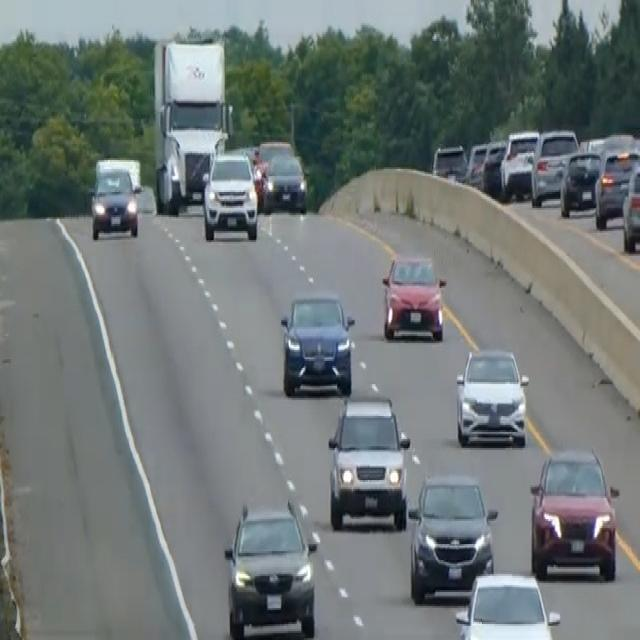car: (222, 496, 318, 638), (528, 444, 619, 582), (407, 471, 497, 603), (279, 290, 355, 396), (454, 345, 529, 448), (454, 569, 561, 638), (380, 249, 446, 341), (201, 149, 258, 242), (89, 156, 140, 240), (594, 140, 639, 228), (530, 126, 579, 206), (559, 147, 601, 217), (499, 128, 539, 199), (262, 151, 307, 213), (621, 160, 639, 252), (254, 137, 291, 179), (481, 137, 507, 195), (431, 142, 467, 183), (464, 140, 487, 188)
lorry: (151, 35, 231, 214)
minivan: (326, 393, 411, 531)
